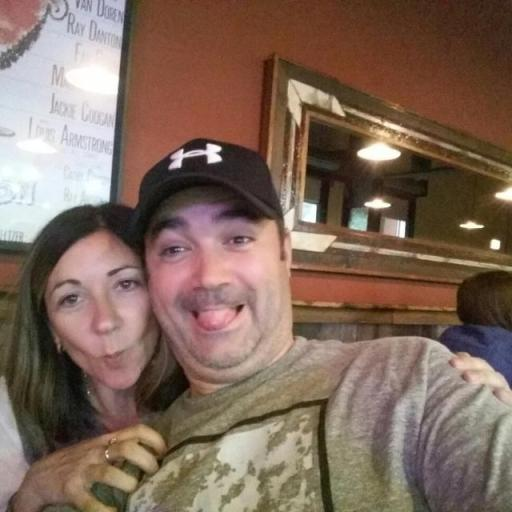Under Armour: (167, 141, 225, 171)
